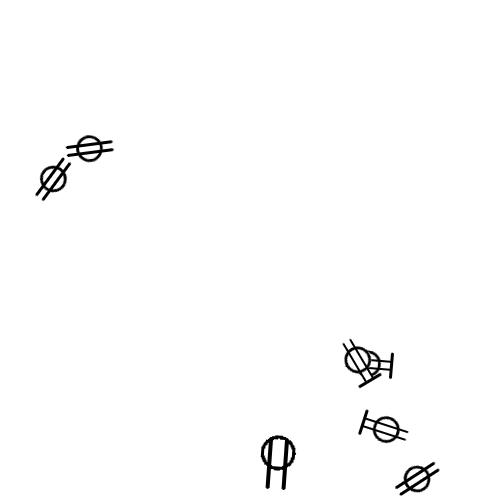Duplex-Receptacle: (248, 443, 307, 479), (343, 348, 395, 381), (332, 345, 384, 378), (359, 412, 411, 445), (64, 132, 117, 163), (27, 165, 80, 196), (391, 462, 444, 493)
